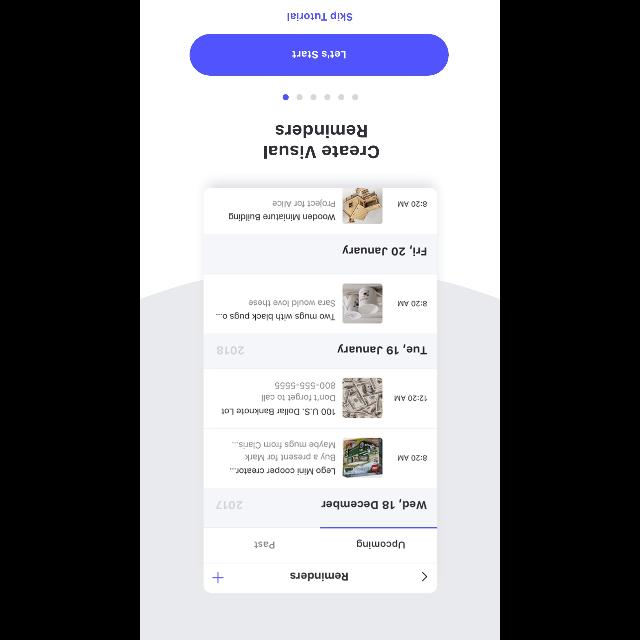image: (204, 188, 436, 592)
pageindicator: (282, 94, 358, 100)
text: (264, 125, 380, 159), (288, 12, 352, 22)
textbutton: (190, 34, 448, 76)
